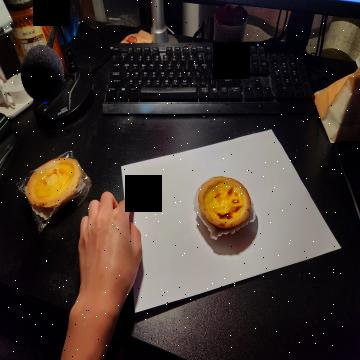EggTart: (196, 174, 251, 229)
